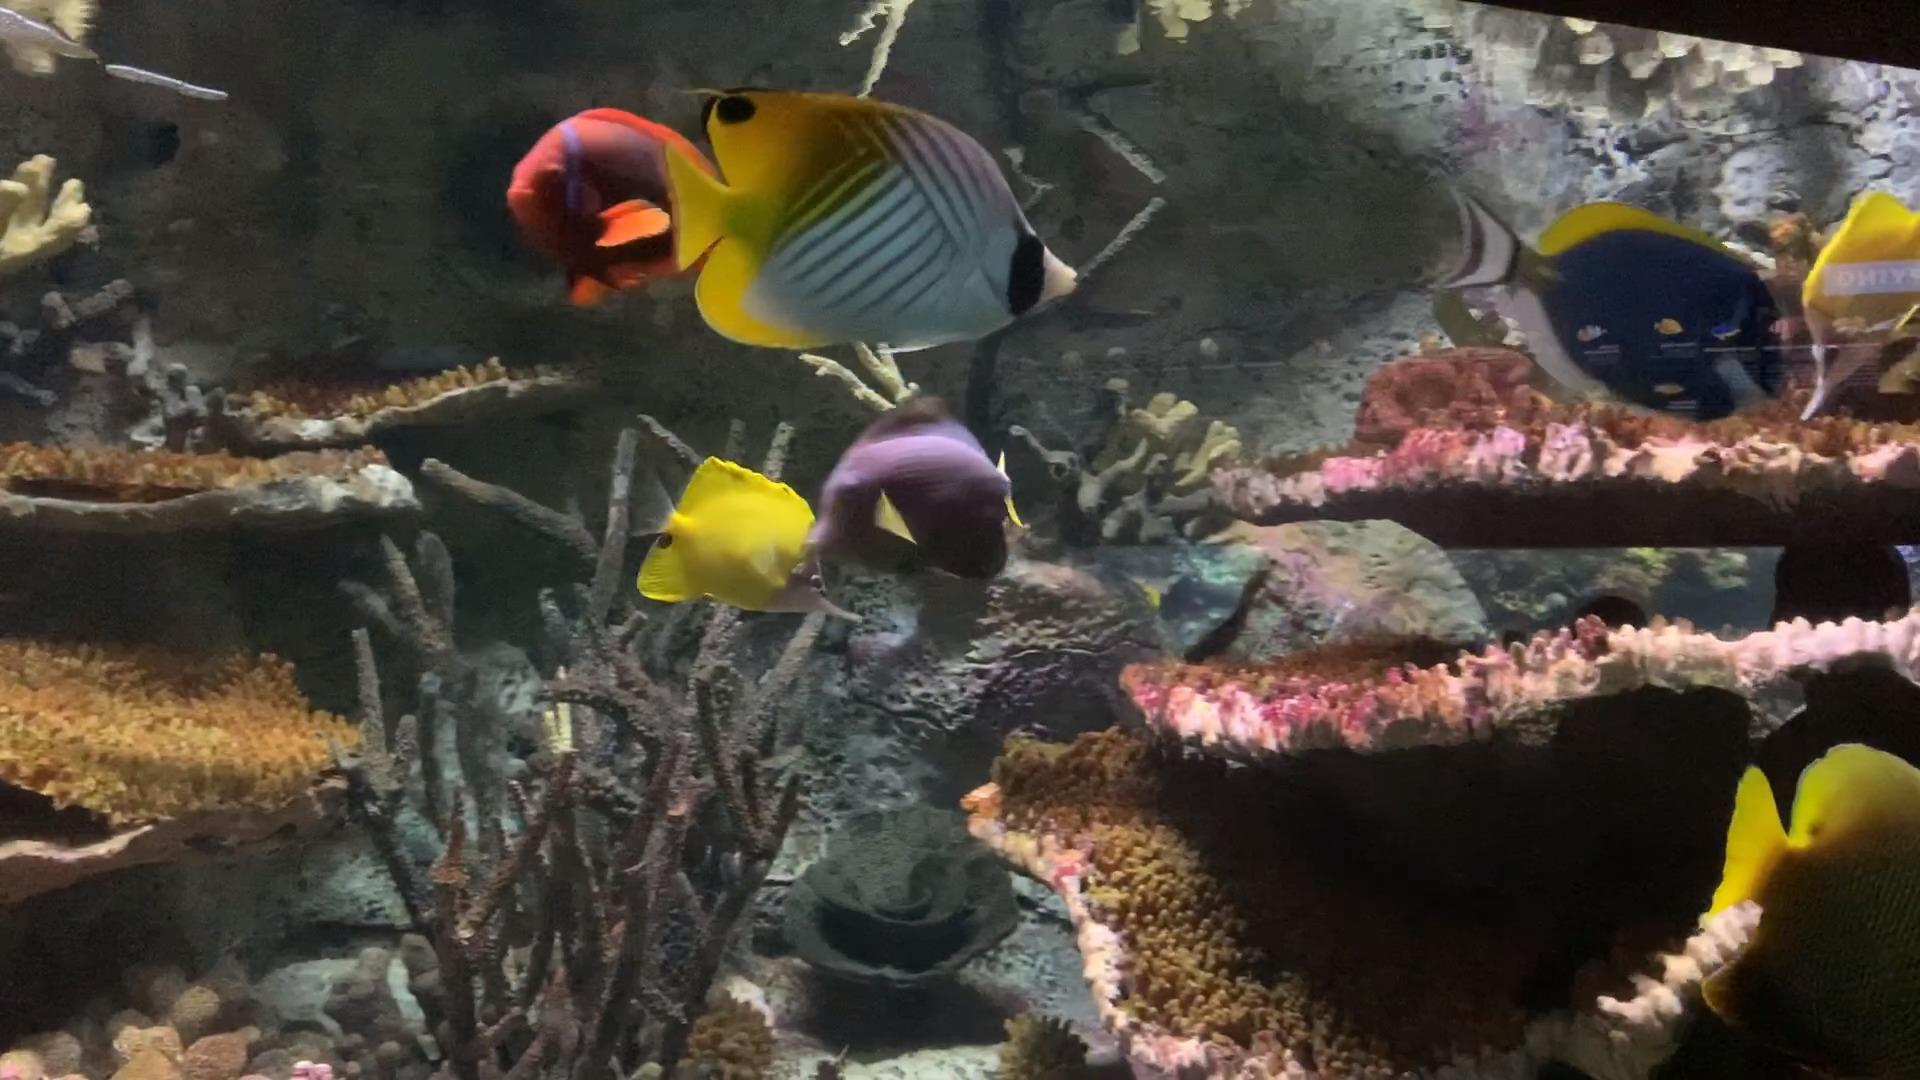fish: (658, 82, 1081, 355), (1429, 175, 1793, 426), (1697, 740, 1920, 1072), (505, 104, 736, 313), (802, 388, 1034, 584), (629, 451, 865, 626), (1797, 189, 1920, 423)
